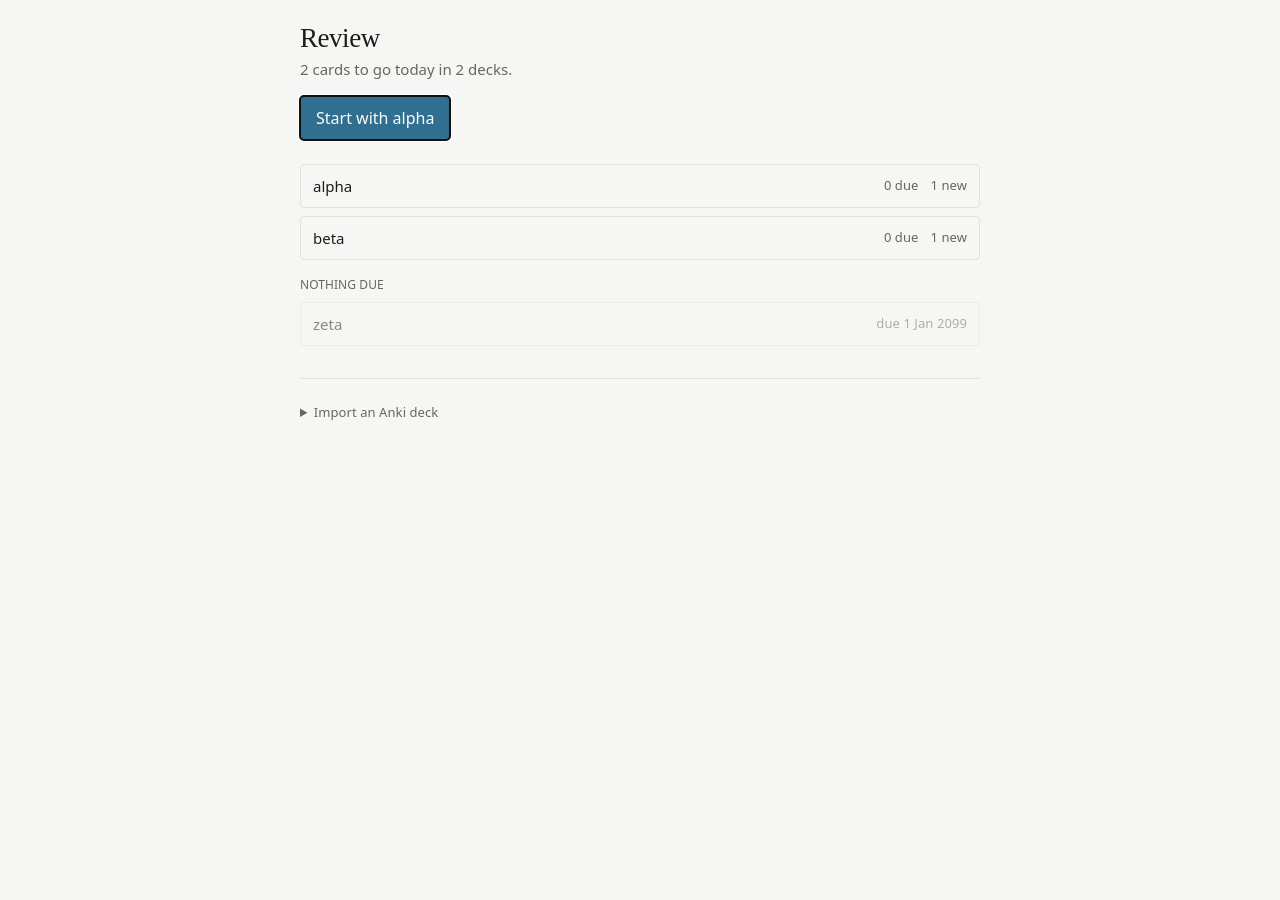
it: a click on Start leaves the keys in the pane, so Enter shows the answer
Check: the button "alpha 0 due 1 new" is shown, box [300,164,980,208]
Click the button "Start with alpha". click: (375, 118)
box: [300,96,450,140]
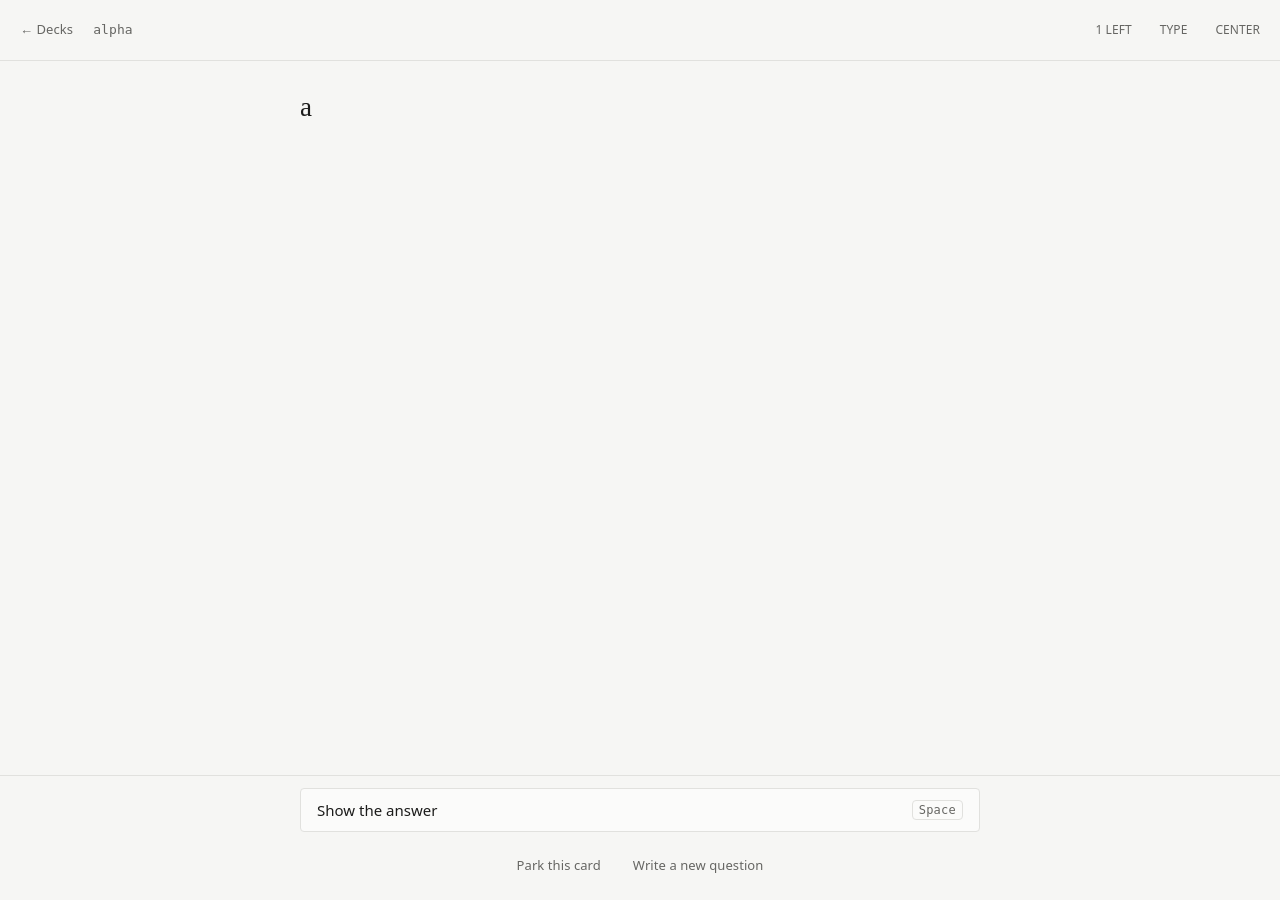
Check: the field with class "cm-content" is shown, box [300,92,312,122]
Press Enter in the element named "review"
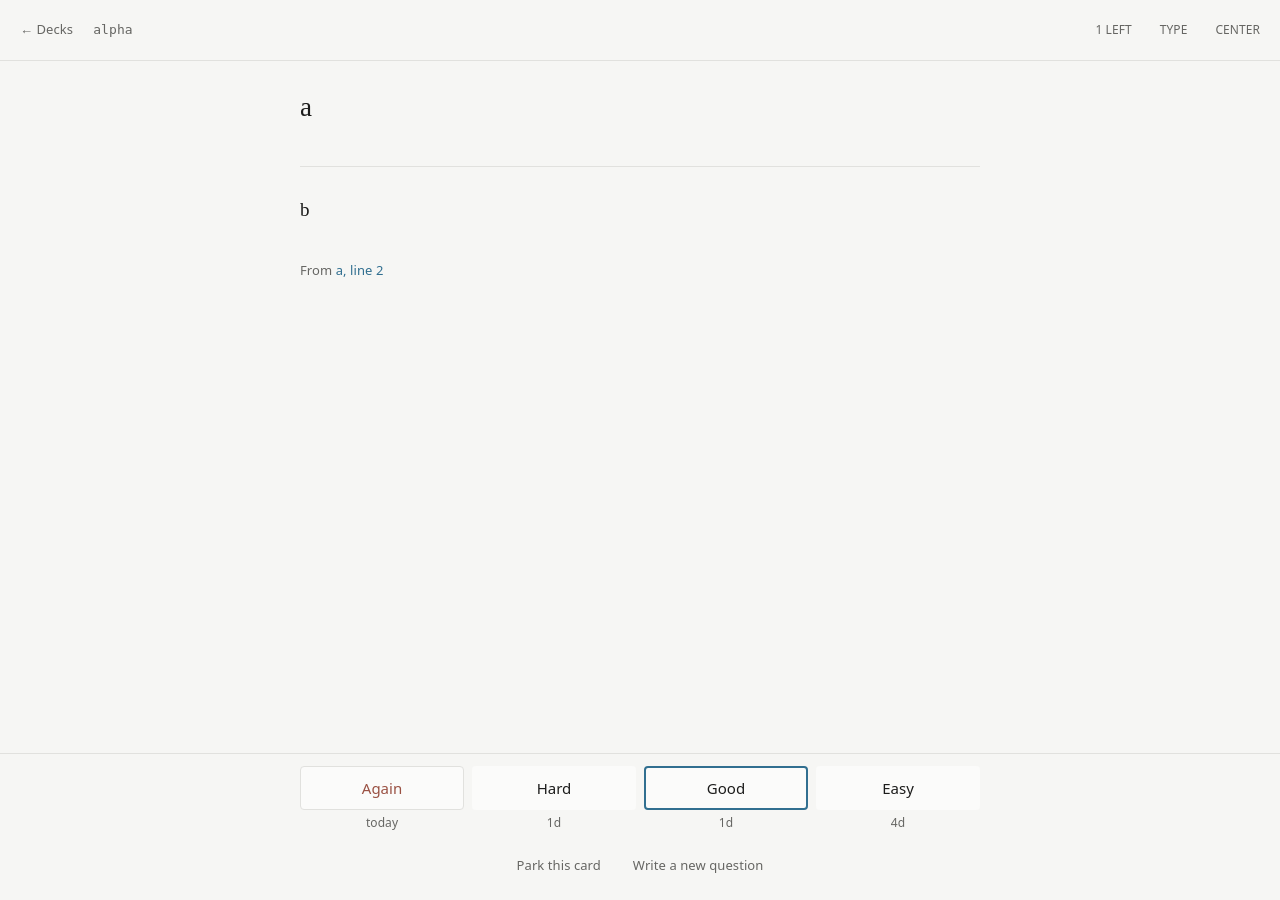
Check: the element with test id "review-back" is shown, box [300,166,980,237]
